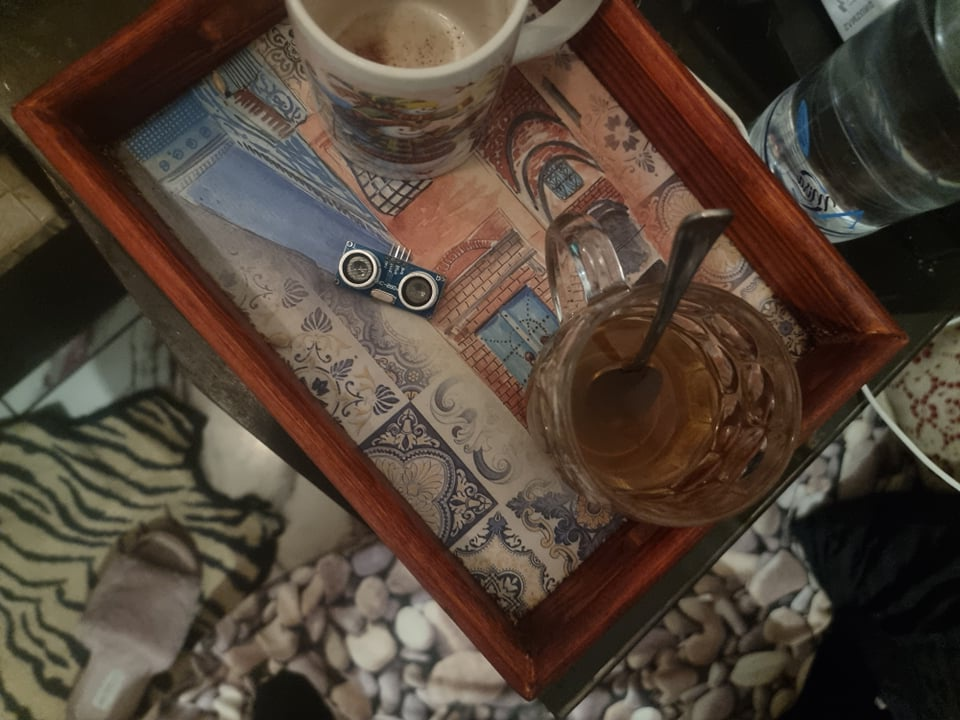SENSOR: (338, 239, 446, 314)
